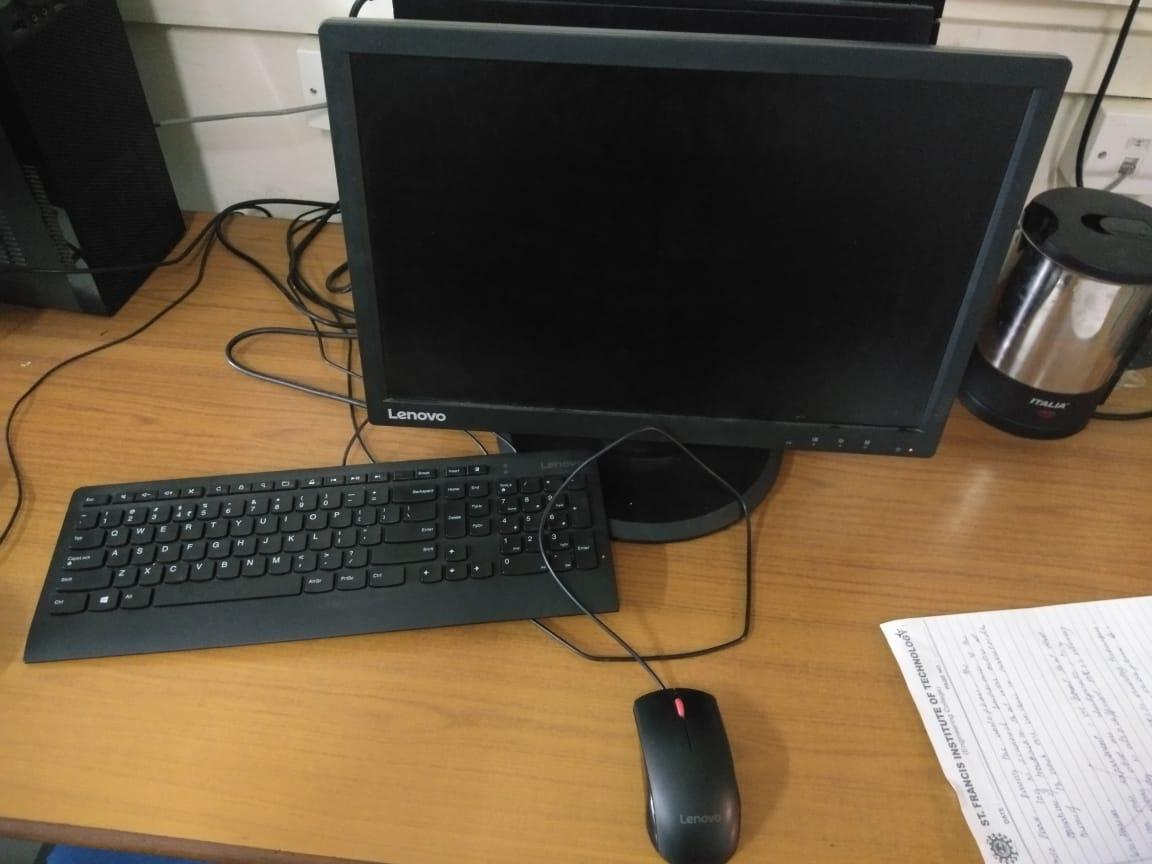keyboard: (18, 443, 637, 672)
monitor: (305, 9, 1079, 472)
mouse: (627, 682, 761, 864)
